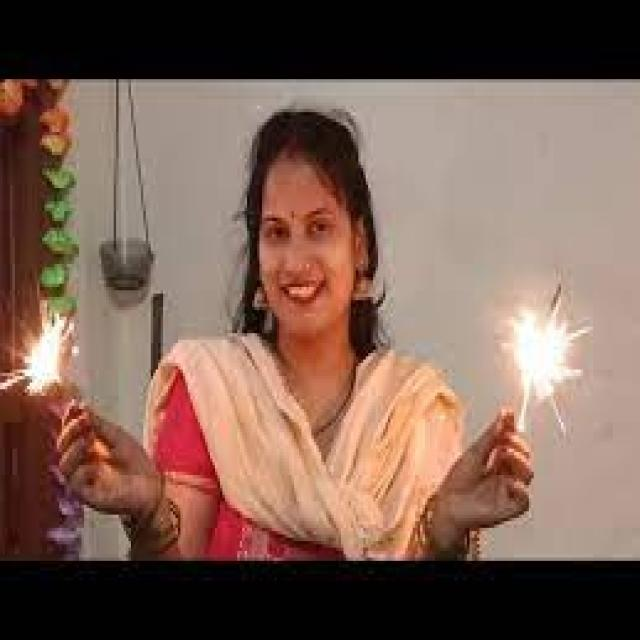fire: (494, 294, 594, 436), (0, 298, 79, 396)
